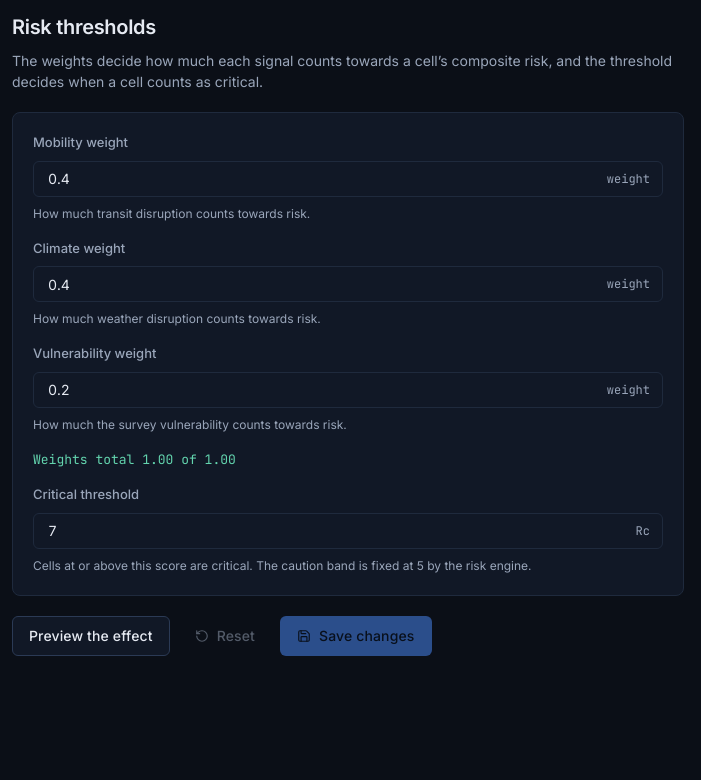
Test: ThresholdForm › previews the effect of a change
Expected: the text "Preview the effect" is shown, left=29, top=628, right=153, bottom=642
Click the button "Preview the effect" at (91, 636), box left=12, top=616, right=170, bottom=656
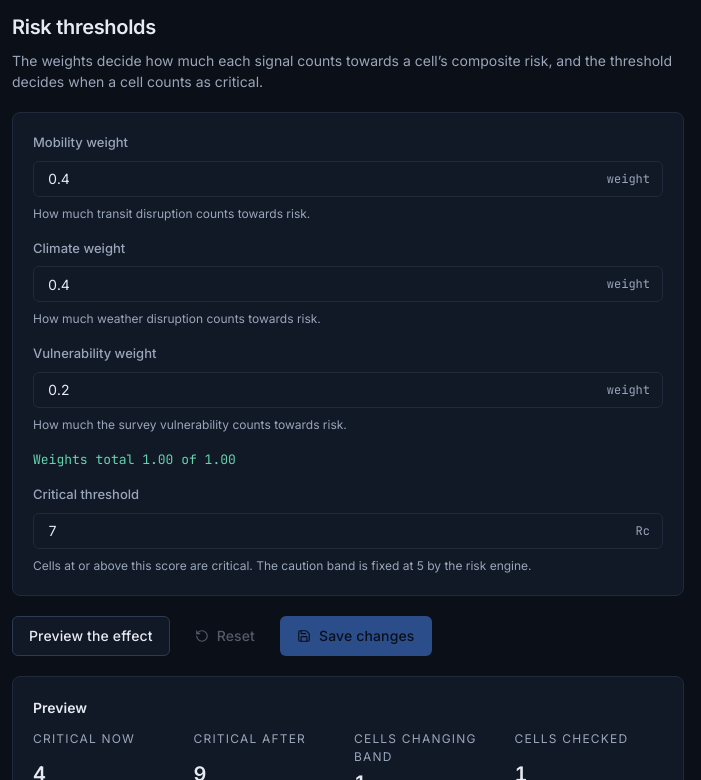
Result: the text "Critical after" is shown at left=194, top=730, right=306, bottom=746
Result: the text "Cells changing band" is shown at left=354, top=730, right=477, bottom=764
